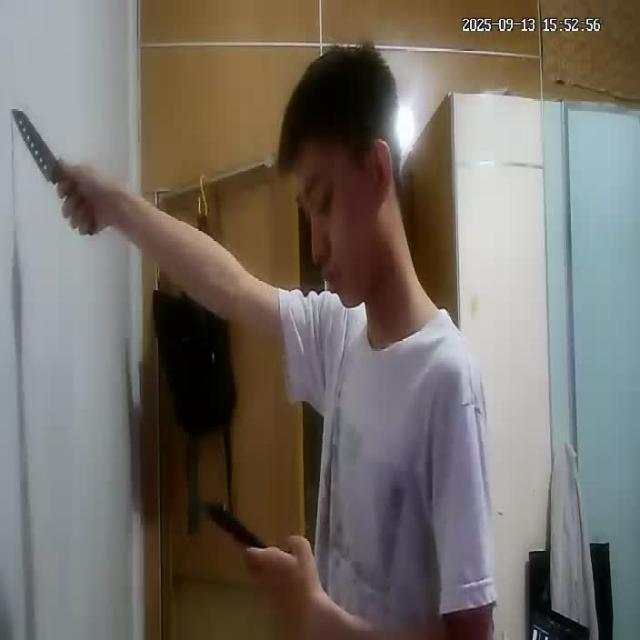senjata_tajam: (10, 104, 62, 188)
